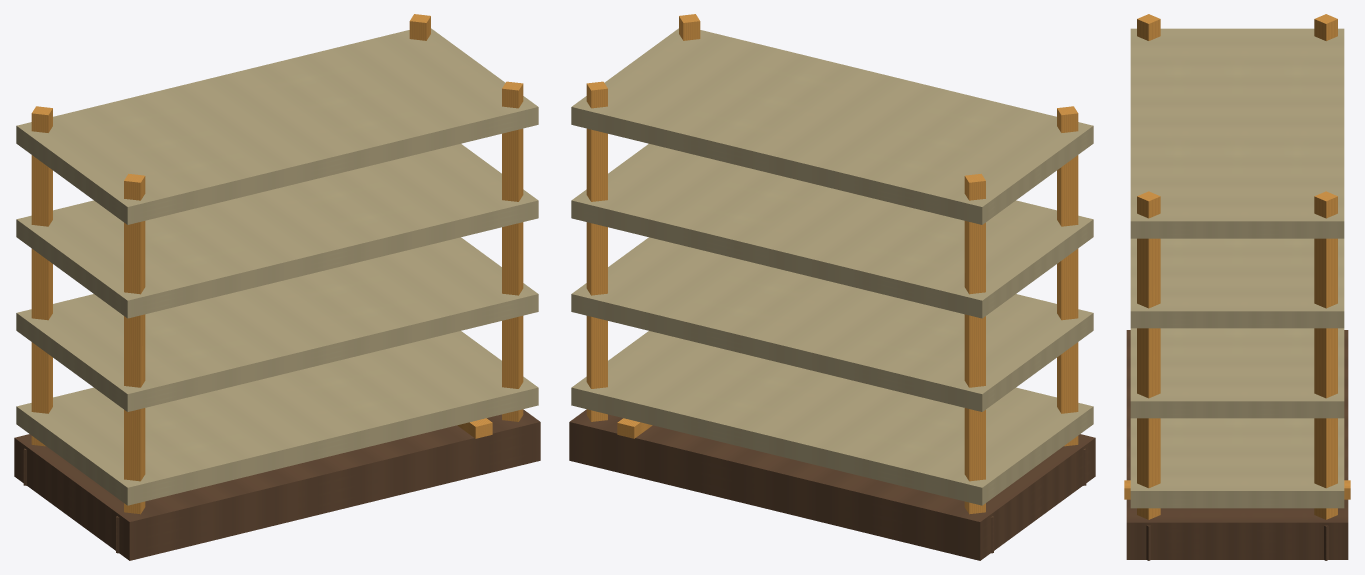
Rendered from atlas100-s012-a06.lod2.glb.
3 views of the same model, side by side, from view 1: azimuth 30°, elevation 25°; view 2: azimuth 150°, elevation 25°; view 3: azimuth 270°, elevation 25° (orthographic). The views are drawn at different scales.
Parts seen in each view (by area): view 1: atlas100-s012-a06:part-014, atlas100-s012-a06:part-013, atlas100-s012-a06:part-011, atlas100-s012-a06:part-012, atlas100-s012-a06:part-000, atlas100-s012-a06:part-005, atlas100-s012-a06:part-009, atlas100-s012-a06:part-003; view 2: atlas100-s012-a06:part-014, atlas100-s012-a06:part-013, atlas100-s012-a06:part-011, atlas100-s012-a06:part-012, atlas100-s012-a06:part-000, atlas100-s012-a06:part-003, atlas100-s012-a06:part-007, atlas100-s012-a06:part-005; view 3: atlas100-s012-a06:part-014, atlas100-s012-a06:part-011, atlas100-s012-a06:part-012, atlas100-s012-a06:part-013, atlas100-s012-a06:part-000, atlas100-s012-a06:part-007, atlas100-s012-a06:part-009, atlas100-s012-a06:part-003, atlas100-s012-a06:part-005.
Part boxes in pixels (left/top/right/bottom): atlas100-s012-a06:part-014: left=16, top=28, right=538, bottom=224; atlas100-s012-a06:part-013: left=16, top=144, right=538, bottom=318; atlas100-s012-a06:part-011: left=16, top=331, right=538, bottom=505; atlas100-s012-a06:part-012: left=16, top=237, right=538, bottom=411; atlas100-s012-a06:part-000: left=14, top=409, right=540, bottom=560; atlas100-s012-a06:part-005: left=124, top=173, right=145, bottom=514; atlas100-s012-a06:part-009: left=502, top=81, right=523, bottom=421; atlas100-s012-a06:part-003: left=31, top=106, right=52, bottom=446; atlas100-s012-a06:part-014: left=571, top=28, right=1093, bottom=224; atlas100-s012-a06:part-013: left=571, top=144, right=1093, bottom=318; atlas100-s012-a06:part-011: left=571, top=331, right=1093, bottom=505; atlas100-s012-a06:part-012: left=571, top=237, right=1093, bottom=411; atlas100-s012-a06:part-000: left=569, top=409, right=1095, bottom=560; atlas100-s012-a06:part-003: left=964, top=173, right=985, bottom=514; atlas100-s012-a06:part-007: left=586, top=81, right=607, bottom=421; atlas100-s012-a06:part-005: left=1057, top=106, right=1078, bottom=446; atlas100-s012-a06:part-014: left=1130, top=28, right=1344, bottom=238; atlas100-s012-a06:part-011: left=1130, top=418, right=1344, bottom=508; atlas100-s012-a06:part-012: left=1130, top=328, right=1344, bottom=418; atlas100-s012-a06:part-013: left=1130, top=238, right=1344, bottom=328; atlas100-s012-a06:part-000: left=1126, top=330, right=1348, bottom=559; atlas100-s012-a06:part-007: left=1314, top=191, right=1337, bottom=519; atlas100-s012-a06:part-009: left=1137, top=191, right=1160, bottom=519; atlas100-s012-a06:part-003: left=1314, top=14, right=1337, bottom=40; atlas100-s012-a06:part-005: left=1137, top=14, right=1160, bottom=40.
Bounding box in the file's own units: 2.91 × 2.48 × 1.43.
3 materials, 3 textured.
